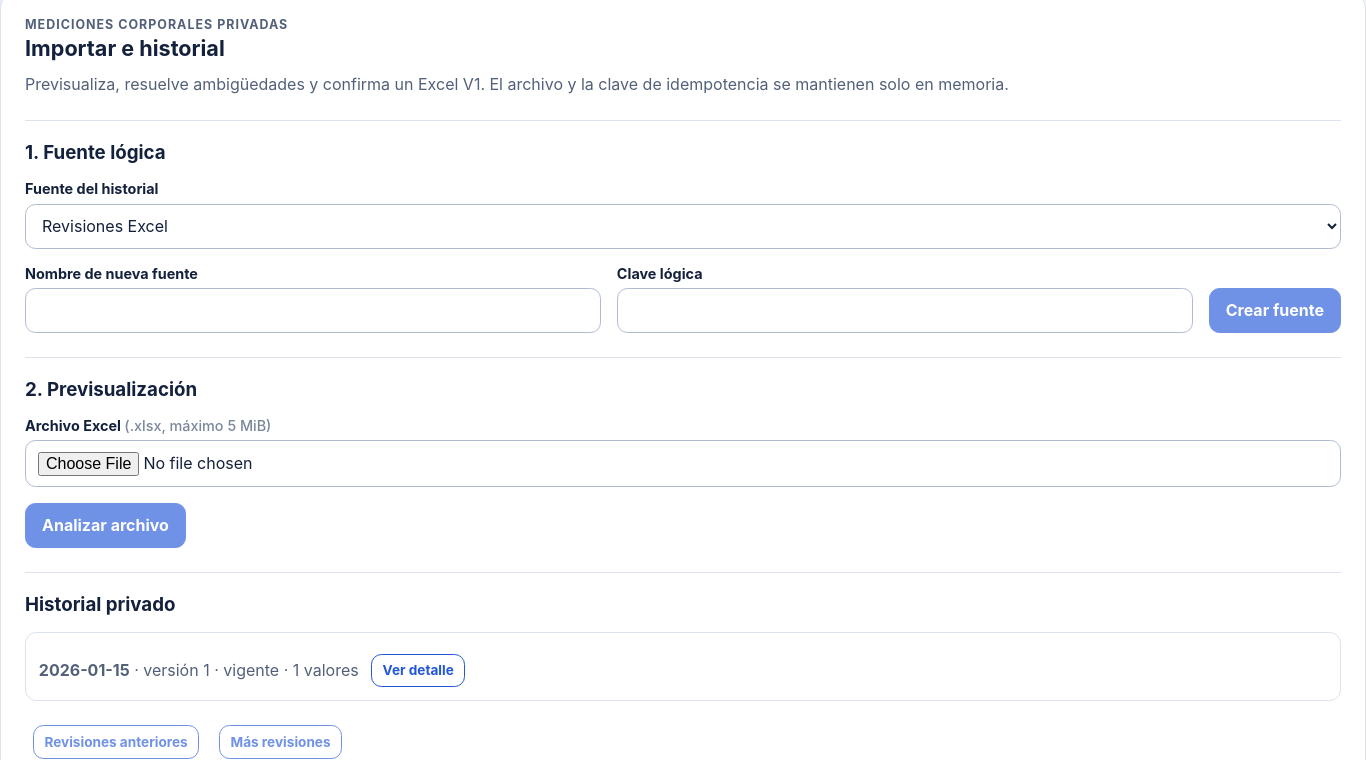
Test: BodyMeasurementImportPreview › loads detail and explicitly reverts an owned import
Expected: the text "2026-01-15" is shown, [39,659,130,679]
Click the button "Ver detalle" at (418, 670), box [371,654,465,687]
(page scrolled)
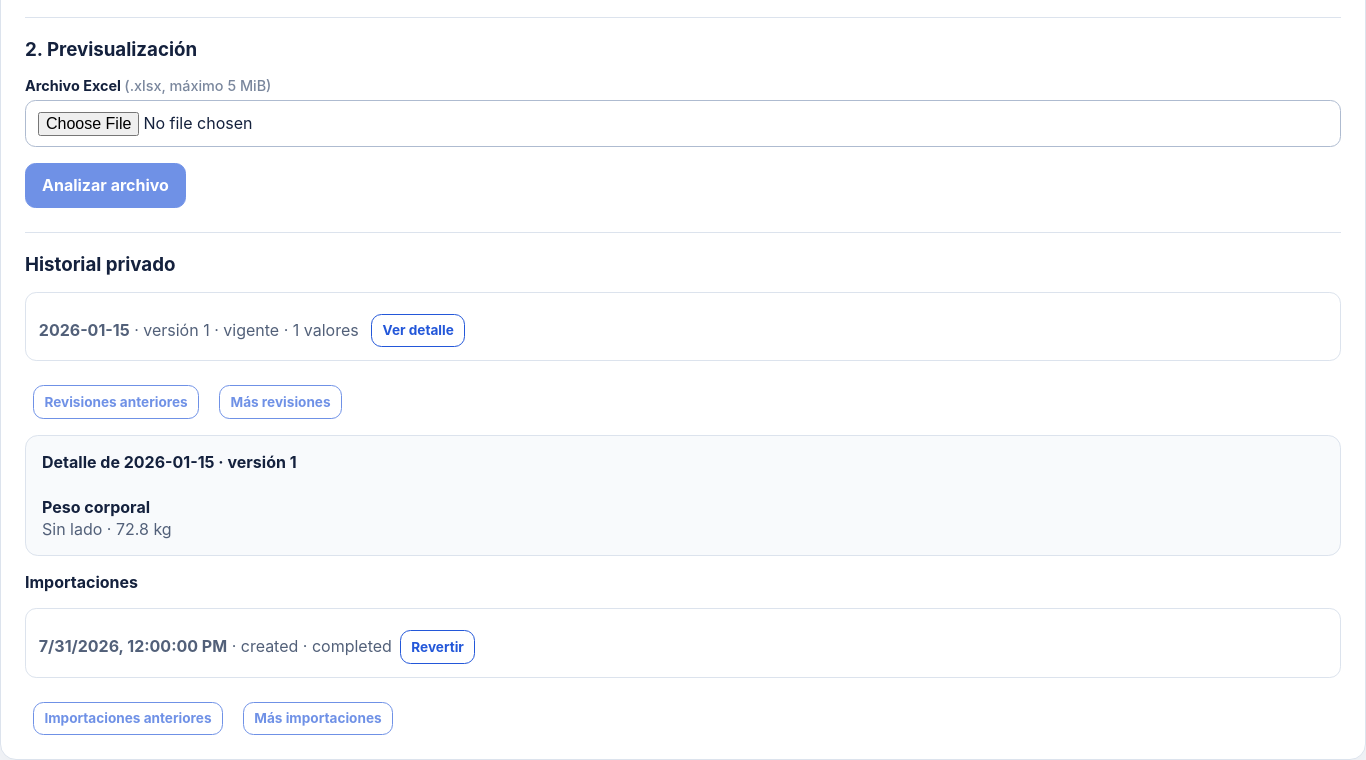
Expected: the text "Peso corporal" is shown, [42,497,150,517]
Click the button "Revertir" at (438, 647), box [400,630,475,664]
(page scrolled)
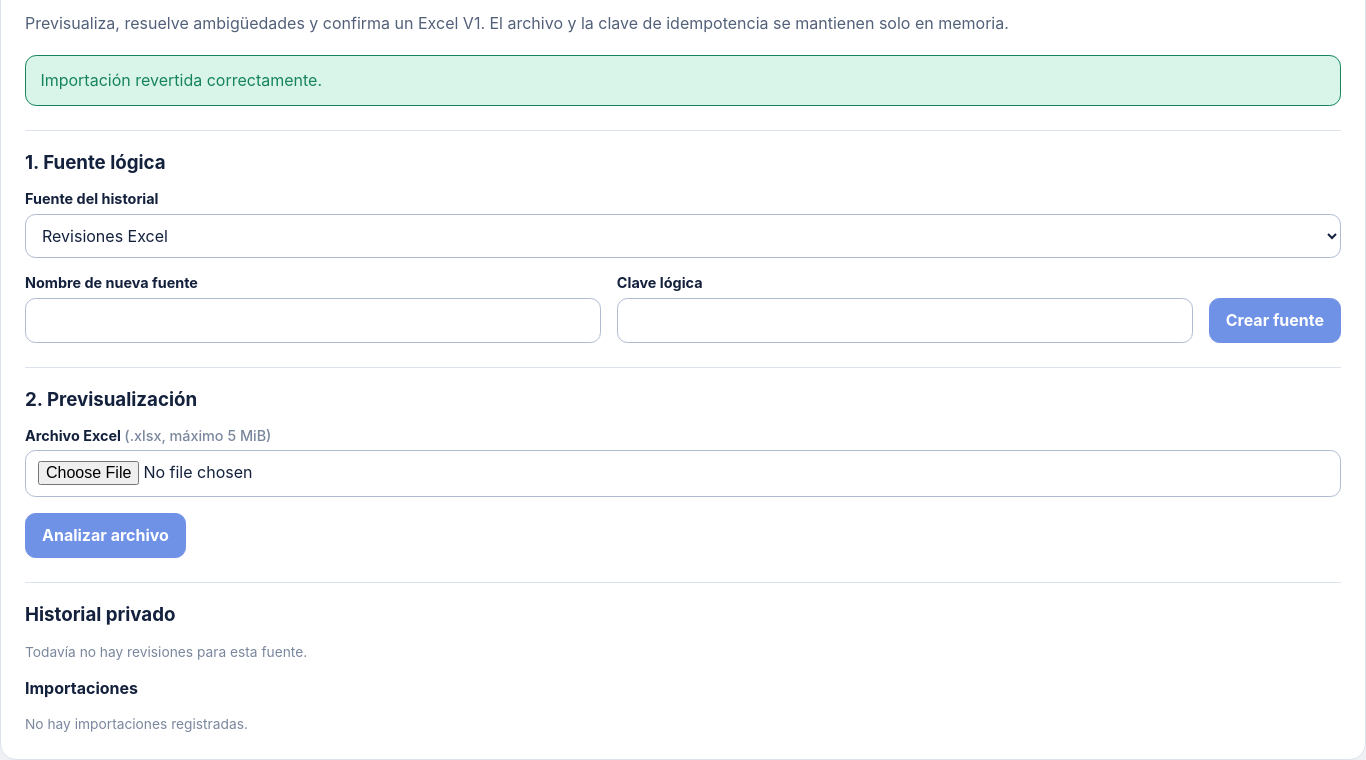
Expected: the text "Importación revertida correctamente." is shown, [25,55,1341,106]
